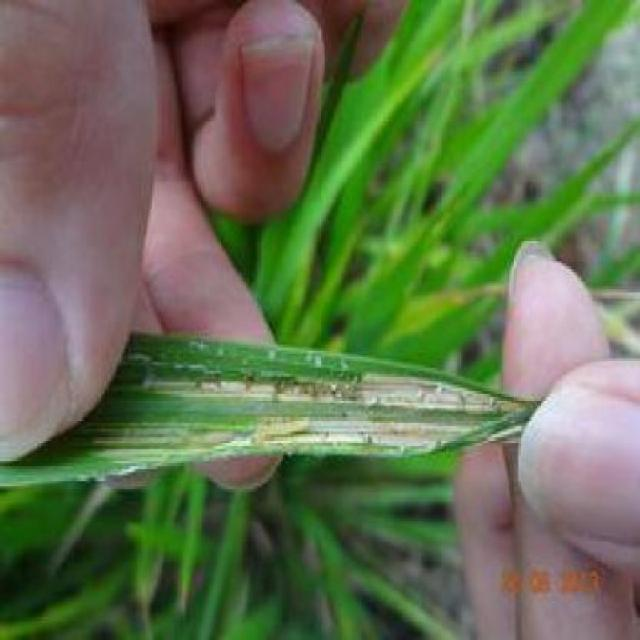leaf-folder: (218, 399, 322, 484)
